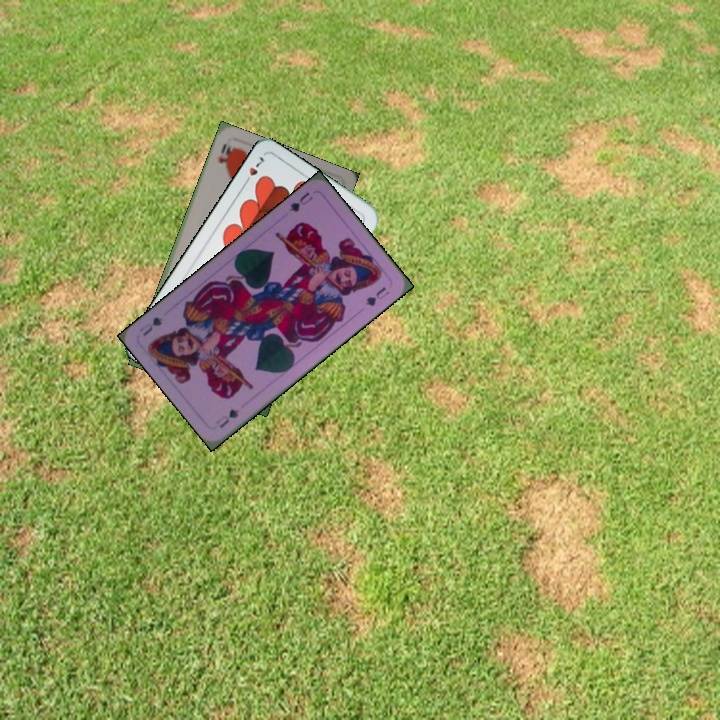GU: (285, 188, 316, 215), (212, 405, 242, 431)
H7: (239, 152, 267, 188)
HO: (213, 140, 235, 171)
